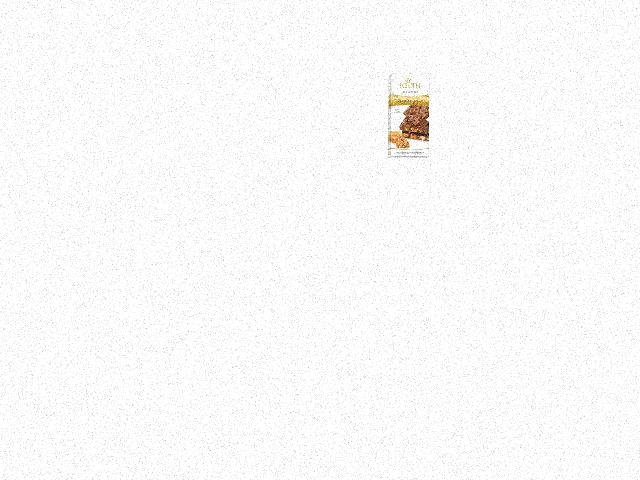chocolate: (386, 70, 430, 160)
